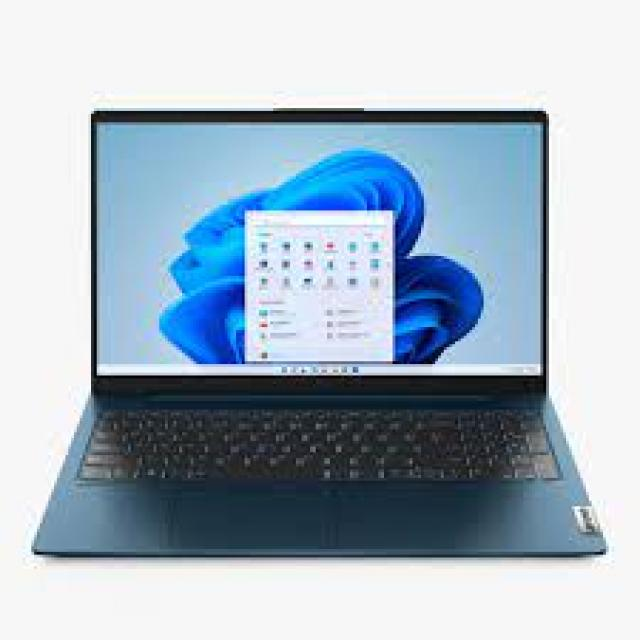others: (14, 91, 614, 566)
